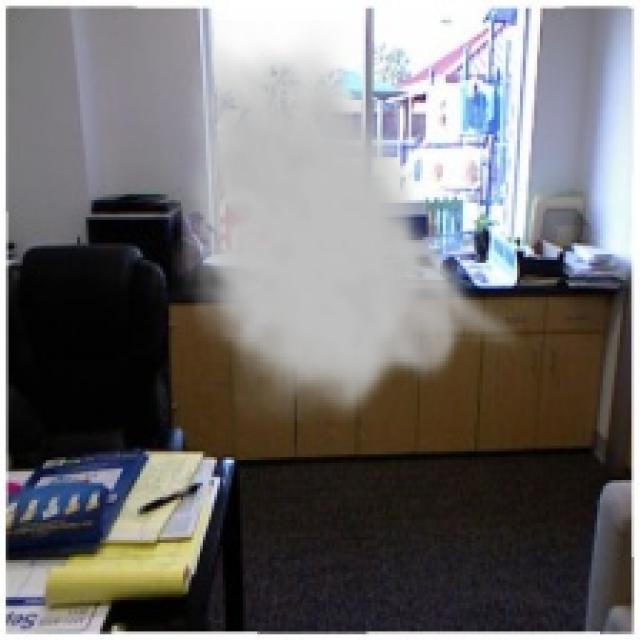Smoke: (172, 20, 528, 429)
